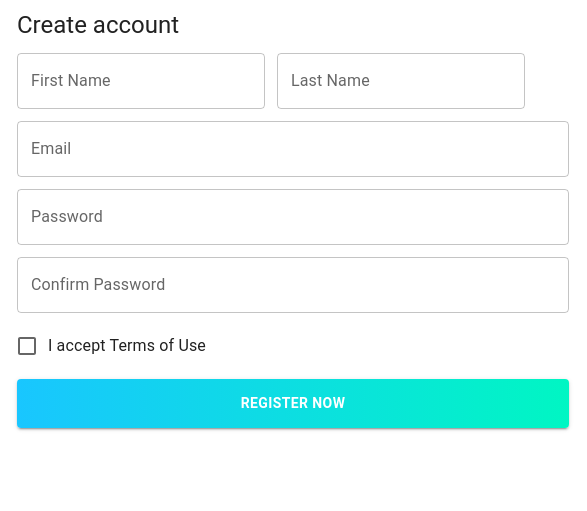
it: Client-side validation › Register shows email, password length and terms errors
invalid email
Type "bad-email" into the field with placeholder "Email". click: point(293, 149)
box: x1=17 y1=121 x2=569 y2=177
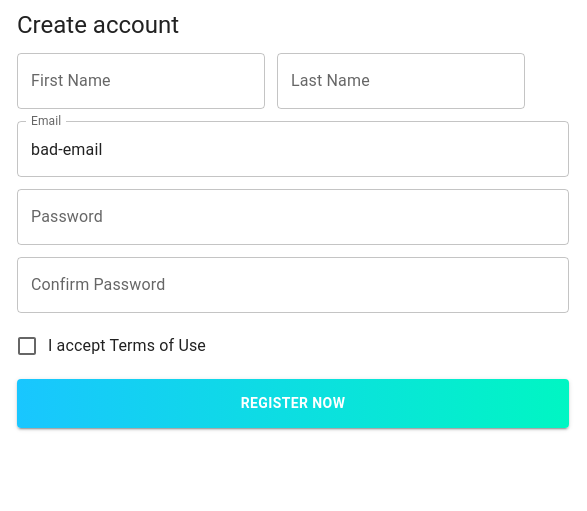
use the first password input for the main password field
Type "123" into the password field with placeholder "Password". click: point(293, 217)
box: x1=17 y1=189 x2=569 y2=245
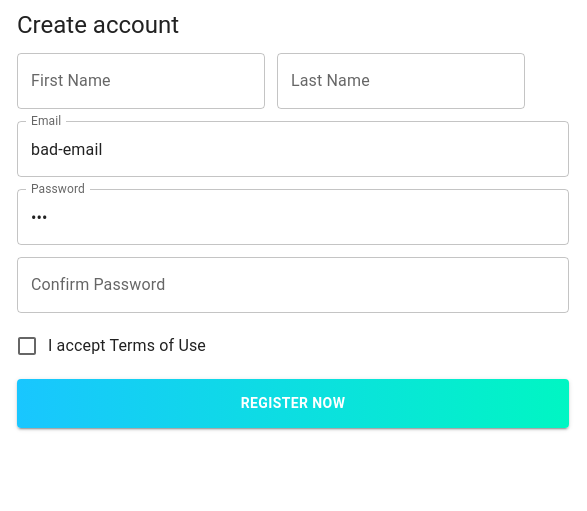
Type "123" into the password field with placeholder "Confirm Password". click: point(293, 285)
box: x1=17 y1=257 x2=569 y2=313
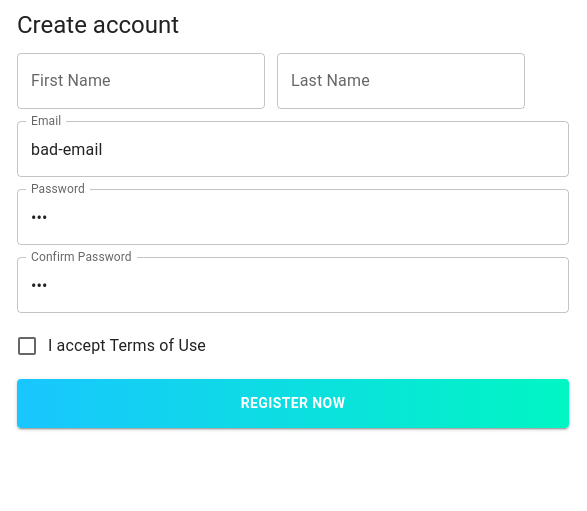
do not check terms
Click the button "REGISTER NOW". click: point(293, 403)
box: x1=17 y1=379 x2=569 y2=428
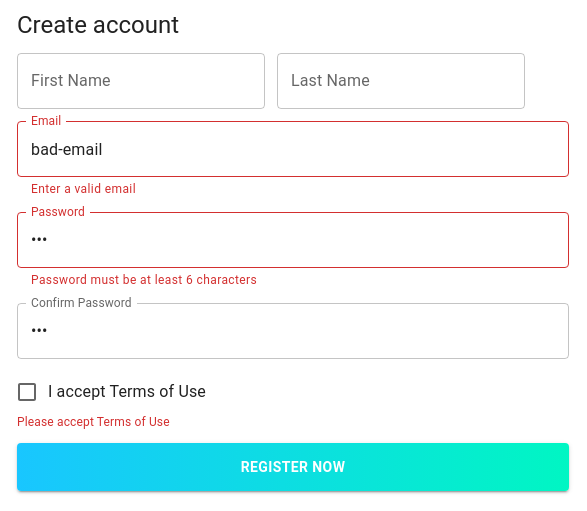
Check: the text "Enter a valid email" is shown, box x1=31 y1=182 x2=136 y2=196
Check: the text "Password must be at least 6 characters" is shown, box x1=31 y1=273 x2=257 y2=287
Check: the text "Please accept Terms of Use" is shown, box x1=17 y1=415 x2=170 y2=429
